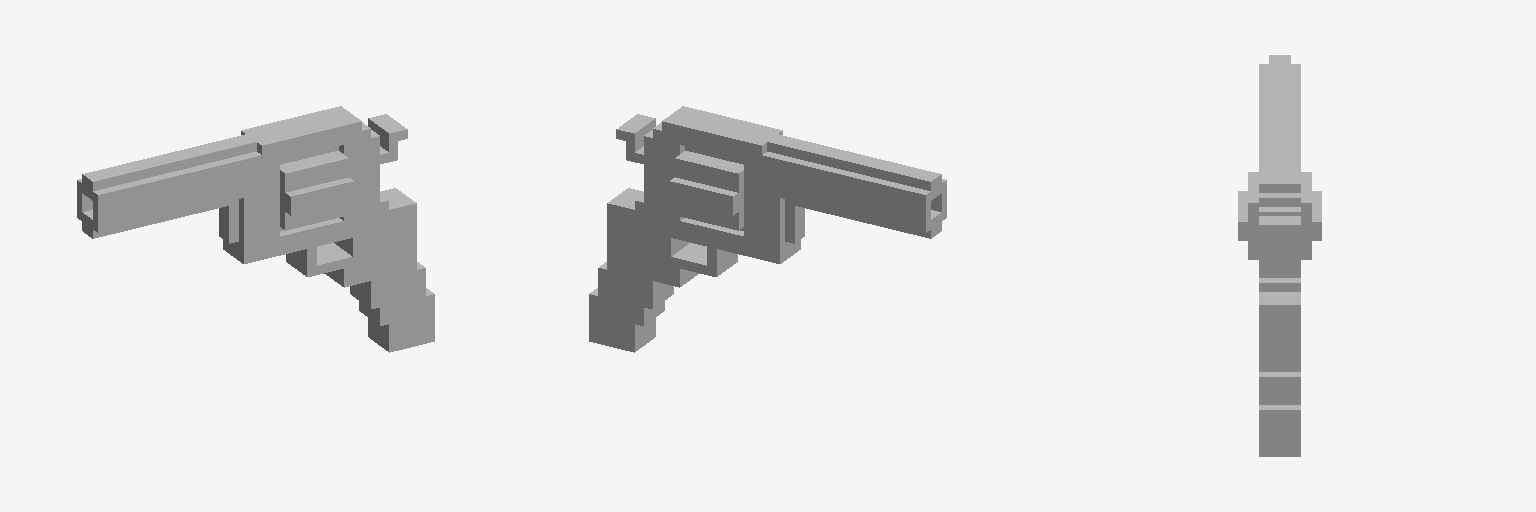
Rendered from revolver.obj.
The picture shows the model from 3 angles: view 1: azimuth 30°, elevation 25°; view 2: azimuth 150°, elevation 25°; view 3: azimuth 270°, elevation 25°; orthographic projection.
Visible parts, largest first — view 1: revolver; view 2: revolver; view 3: revolver.
Boxes of the visible parts, x1,y1,x2,y2 form: revolver: [77, 106, 434, 352]; revolver: [589, 106, 946, 352]; revolver: [1238, 55, 1321, 456].
Size of the model in its own units: 37 by 25 by 8.